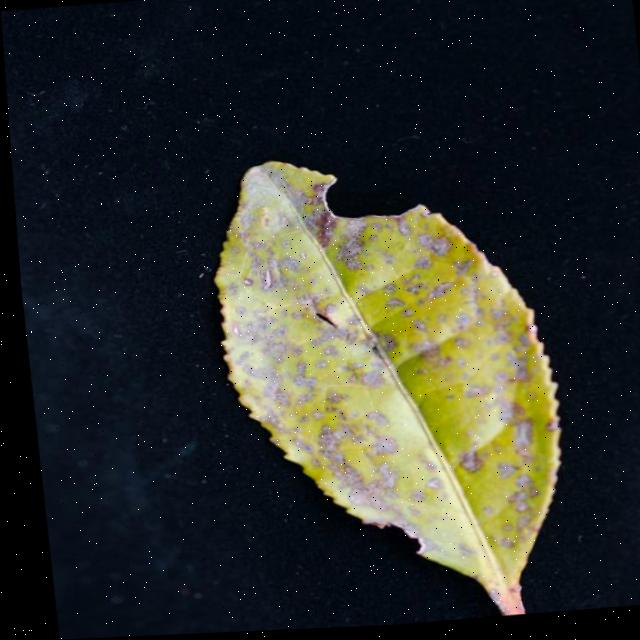Tea red rust: (209, 192, 556, 565)
